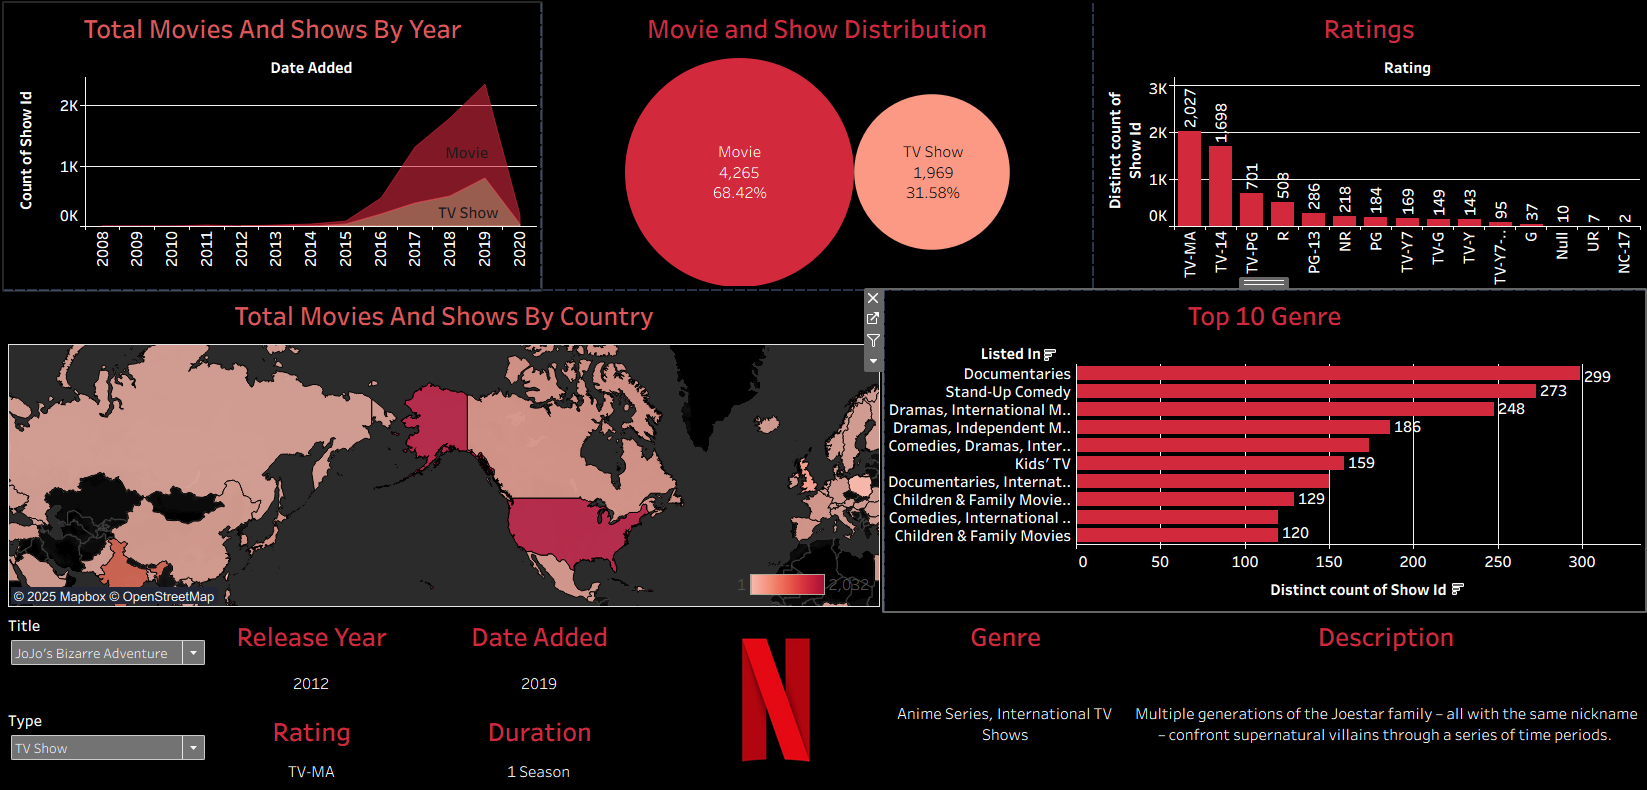

Layout of this report page (visuals, bound fields, positions):
{"tool":"tableau","page":{"name":"Dashboard 1","canvas":[1000,1000],"units":"permille","ordinal":0},"visuals":[{"type":"worksheet","title":"Total Movies And Shows By Year","mark":"Area","rows":["show_id"],"cols":["date_added"],"box":[4.7,10,324.2,358.3]},{"type":"worksheet","title":"Movie and Show Distribution","mark":"Circle","box":[328.9,10,333.1,358.3]},{"type":"worksheet","title":"Ratings","mark":"Automatic","rows":["show_id"],"cols":["rating"],"box":[662,10,333.3,358.3]},{"type":"worksheet","title":"Total Movies And Shows By Country","mark":"Multipolygon","box":[4.7,368.2,531.2,400.8]},{"type":"worksheet","title":"Top 10 genre","mark":"Automatic","rows":["listed_in"],"cols":["show_id"],"box":[536,368.2,459.3,400.8]},{"type":"legend","title":"Total Movies And Shows By Country","param":"[federated.0lulhxp1aavojg145li9y0vd8gtl].[ctd:show_id:qk]","box":[444.5,717.9,85,53.7]},{"type":"filter","title":"Description","param":"[federated.0lulhxp1aavojg145li9y0vd8gtl].[none:title:nk]","box":[4.7,769,125.4,118.6]},{"type":"worksheet","title":"Release Year","mark":"Automatic","box":[130.1,769,120.1,118.6]},{"type":"worksheet","title":"Date Added","mark":"Automatic","box":[250.2,769,155.3,118.6]},{"type":"image","param":"C:/Users/LENOVO/Downloads/channels4_profile.jpg","box":[405.5,769,130.4,221]},{"type":"worksheet","title":"Genre","mark":"Automatic","box":[536,769,146.4,221]},{"type":"worksheet","title":"Description","mark":"Automatic","box":[682.4,769,312.9,221]},{"type":"filter","title":"Description","param":"[federated.0lulhxp1aavojg145li9y0vd8gtl].[none:type:nk]","box":[4.7,887.6,125.4,102.4]},{"type":"worksheet","title":"Rating","mark":"Automatic","box":[130.1,887.6,120.1,102.4]},{"type":"worksheet","title":"Duration","mark":"Automatic","box":[250.2,887.6,155.3,102.4]}]}

Visuals, with their boxes on the dashboard's canvas, which has no fixed pixel size, in thousandths of its width and height (x1, y1, x2, y2). These are canvas units, not pixel positions in the 1647x790 screenshot, which may show the page scaled, cropped or inside an application window:
"Total Movies And Shows By Year" worksheet (Area marks): <bbox>5, 10, 329, 368</bbox>
"Movie and Show Distribution" worksheet (Circle marks): <bbox>329, 10, 662, 368</bbox>
"Ratings" worksheet: <bbox>662, 10, 995, 368</bbox>
"Total Movies And Shows By Country" worksheet (Multipolygon marks): <bbox>5, 368, 536, 769</bbox>
"Top 10 genre" worksheet: <bbox>536, 368, 995, 769</bbox>
"Total Movies And Shows By Country" legend: <bbox>444, 718, 530, 772</bbox>
"Description" filter: <bbox>5, 769, 130, 888</bbox>
"Release Year" worksheet: <bbox>130, 769, 250, 888</bbox>
"Date Added" worksheet: <bbox>250, 769, 406, 888</bbox>
image: <bbox>406, 769, 536, 990</bbox>
"Genre" worksheet: <bbox>536, 769, 682, 990</bbox>
"Description" worksheet: <bbox>682, 769, 995, 990</bbox>
"Description" filter: <bbox>5, 888, 130, 990</bbox>
"Rating" worksheet: <bbox>130, 888, 250, 990</bbox>
"Duration" worksheet: <bbox>250, 888, 406, 990</bbox>
